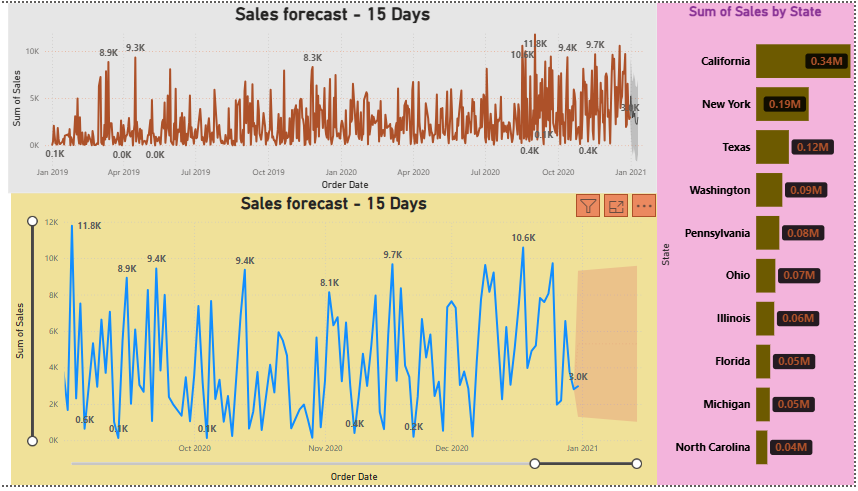

The dashboard page shown, as its layout file describes it:
{"tool":"powerbi","page":{"name":"Page 2","canvas":[1280,720],"ordinal":1},"visuals":[{"type":"lineChart","title":"Sales forecast - 15 Days","fields":{"Y":["Sum(SuperStore_Sales_Dataset.Sales)"],"Category":["SuperStore_Sales_Dataset.Order Date"]},"box":[23,283.7,963.4,436.3],"z":0},{"type":"lineChart","title":"Sales forecast - 15 Days","fields":{"Y":["Sum(SuperStore_Sales_Dataset.Sales)"],"Category":["SuperStore_Sales_Dataset.Order Date"]},"box":[17.3,0,969.1,283.7],"z":1000},{"type":"clusteredBarChart","fields":{"Y":["Sum(SuperStore_Sales_Dataset.Sales)"],"Category":["SuperStore_Sales_Dataset.State"]},"box":[986.4,0,293.8,720],"z":2000}]}

Visuals, with their boxes in screenshot pixels (x1, y1, x2, y2), scaled from the page's 1280x720 canvas onto the 858x491 screenshot:
"Sales forecast - 15 Days" lineChart: rect(15, 193, 661, 490)
"Sales forecast - 15 Days" lineChart: rect(12, 0, 661, 193)
clusteredBarChart - Sum(SuperStore_Sales_Dataset.Sales) x SuperStore_Sales_Dataset.State: rect(661, 0, 857, 490)
